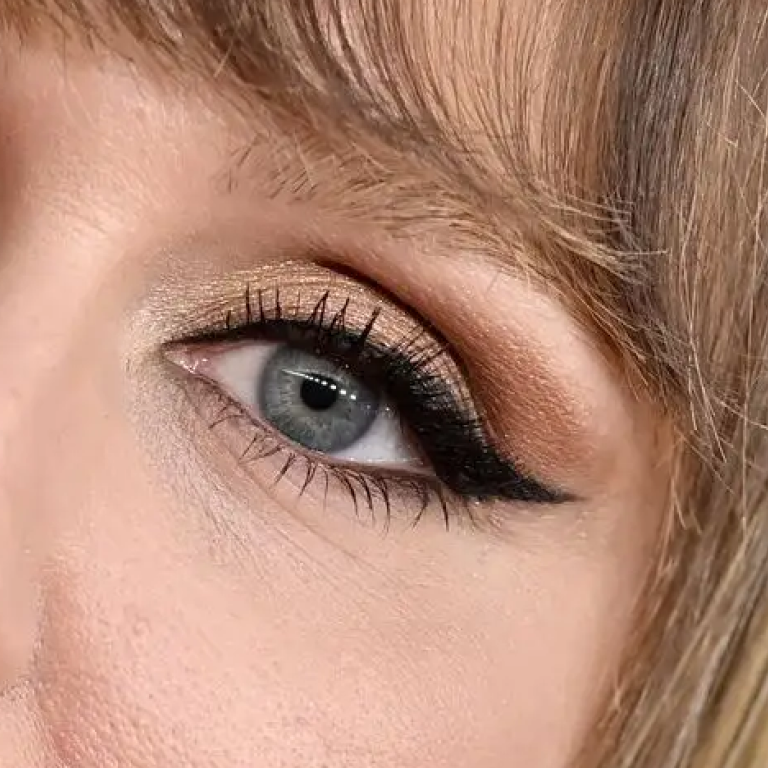iris: (260, 343, 378, 451)
pupil: (302, 372, 340, 410)
sclera: (209, 342, 275, 409), (329, 409, 410, 461)
